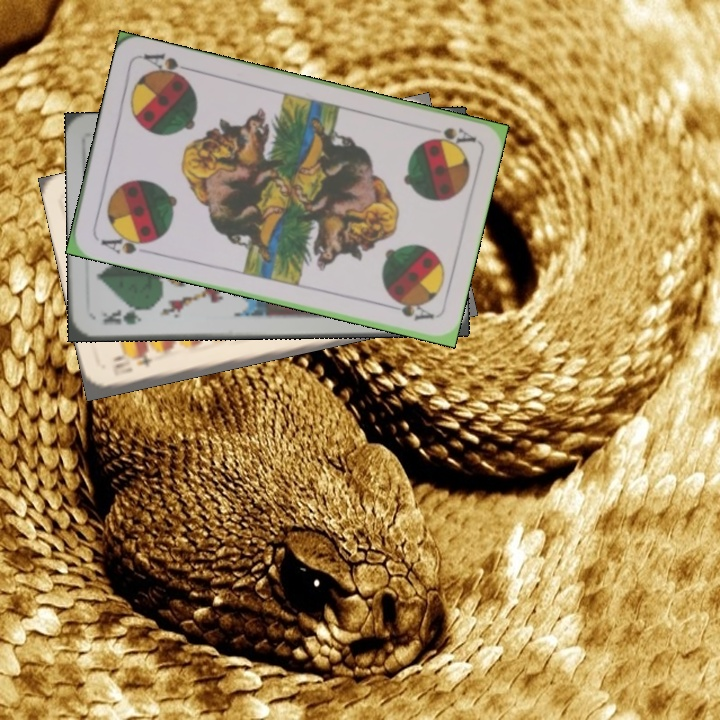E10: (108, 352, 156, 378)
GK: (99, 305, 152, 327)
SA: (97, 228, 155, 257), (424, 123, 478, 149)
